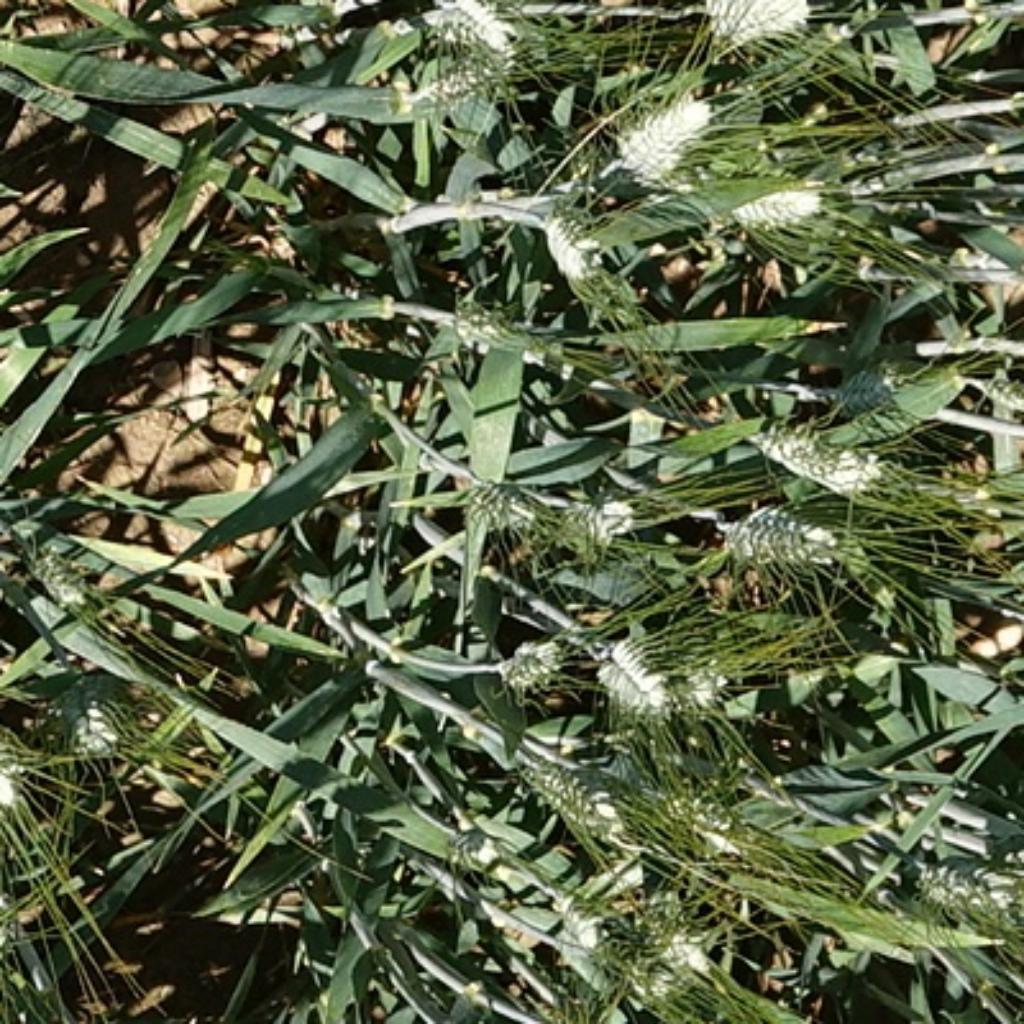0-0: (557, 896, 679, 1006), (506, 734, 632, 839), (586, 619, 691, 734), (739, 409, 888, 488), (709, 494, 852, 573), (678, 163, 834, 232), (424, 281, 560, 360), (901, 837, 1018, 926), (606, 79, 711, 176), (532, 189, 622, 291), (57, 686, 150, 783), (640, 775, 762, 847), (407, 51, 517, 122), (455, 460, 555, 537), (540, 476, 634, 555), (7, 527, 97, 609), (0, 727, 53, 863), (642, 924, 729, 1000), (414, 0, 517, 58), (673, 647, 755, 719), (449, 813, 513, 898), (693, 0, 811, 46), (494, 622, 570, 688), (824, 355, 901, 409), (618, 963, 688, 1007), (974, 363, 1024, 419)
